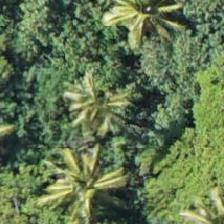coconut_tree: (61, 59, 151, 149), (27, 133, 117, 223), (86, 0, 176, 49), (170, 170, 223, 223)
